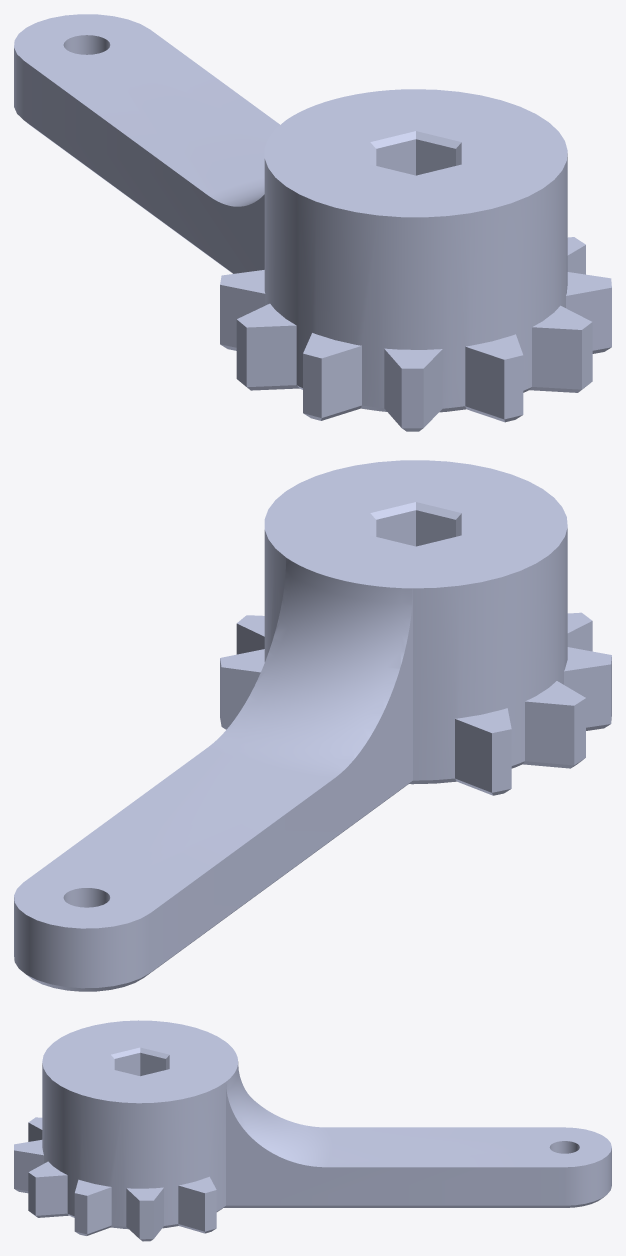
The picture shows the model from 3 angles, top to bottom: view 1: azimuth 30°, elevation 25°; view 2: azimuth 150°, elevation 25°; view 3: azimuth 270°, elevation 25°; orthographic projection. The views are drawn at different scales.
Visible parts, largest first — view 1: node0; view 2: node0; view 3: node0.
Part boxes in pixels (x1,y1,x2,y2): node0: [14, 14, 611, 431]; node0: [14, 460, 611, 991]; node0: [14, 1020, 611, 1241].
Size of the model in its own units: 0.0268 by 0.015 by 0.0634.
